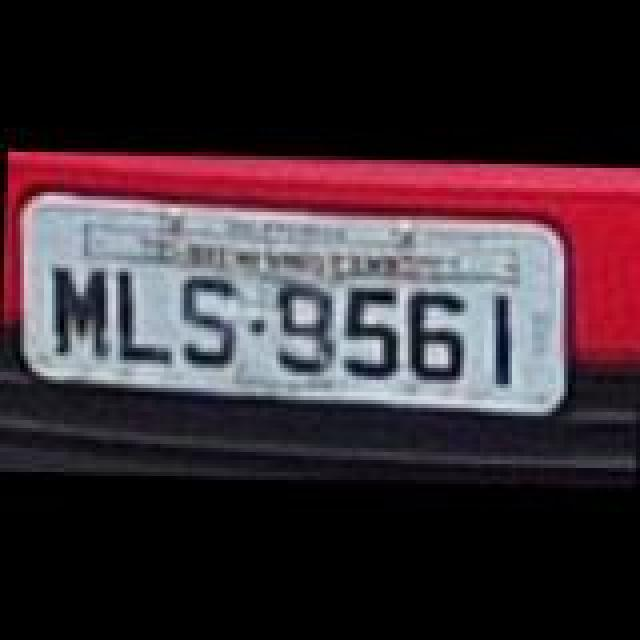1: (488, 294, 520, 386)
5: (340, 288, 404, 384)
6: (402, 290, 470, 386)
9: (270, 282, 338, 378)
L: (112, 268, 176, 368)
M: (48, 262, 112, 362)
S: (174, 270, 242, 366)
